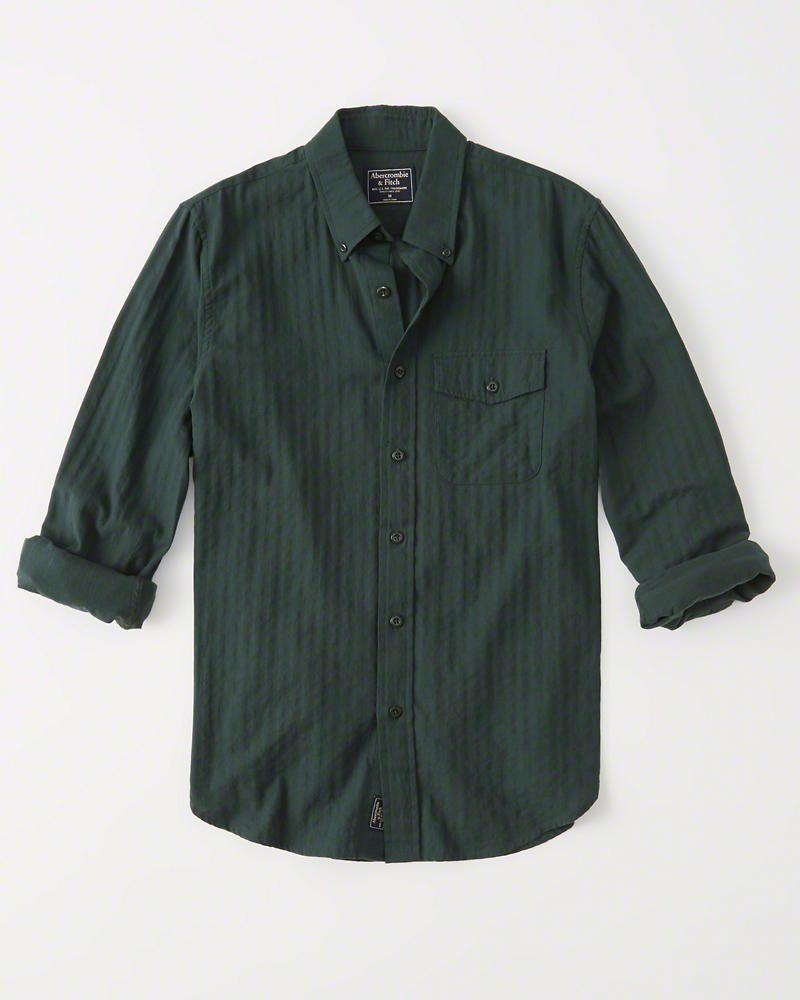teeshirt: (29, 103, 774, 854)
